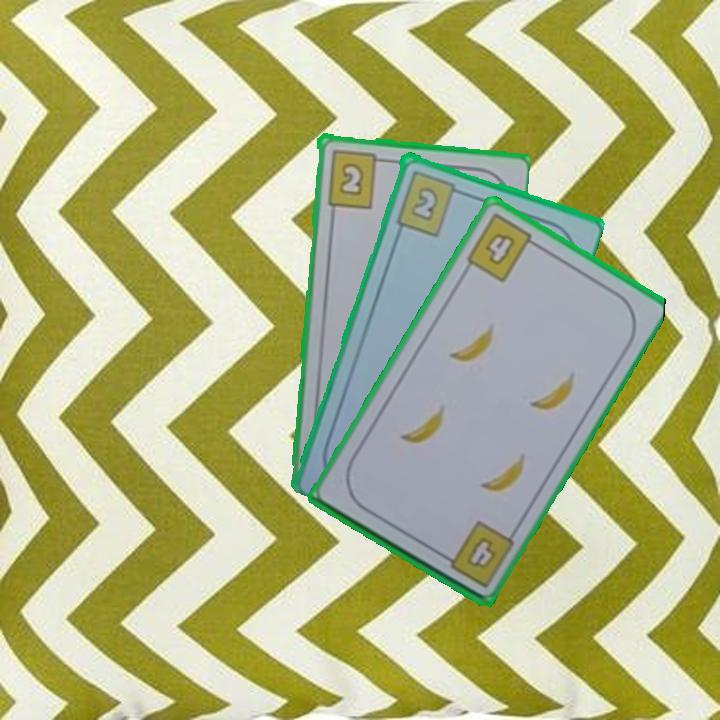2b: (392, 166, 467, 239), (323, 146, 388, 210)
4b: (462, 209, 543, 285), (436, 517, 517, 591)
